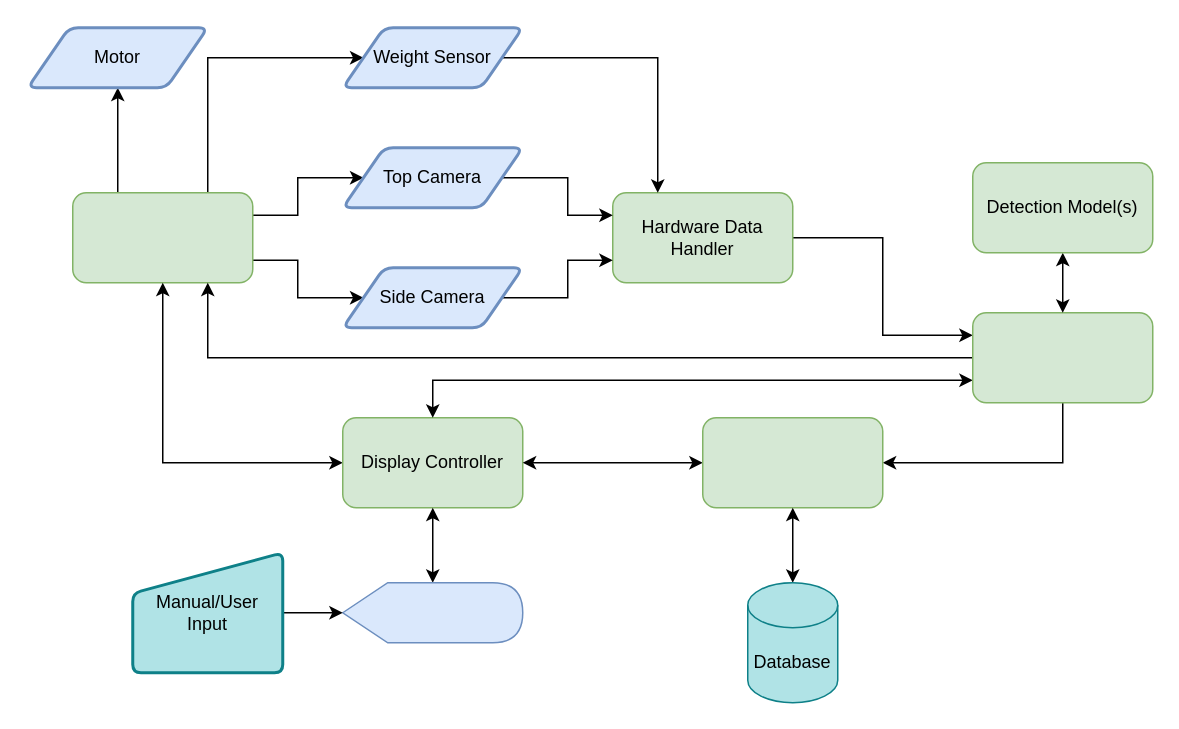
Image size: 1179x729. Some labels were removed from this diagram. The centre of each missing label's shape, as x and y in pixels:
"Database Handler" belongs at point (792, 462).
"Detection Handler" belongs at point (1062, 357).
"Display" belongs at point (432, 612).
"Hardware Controller" belongs at point (162, 237).
